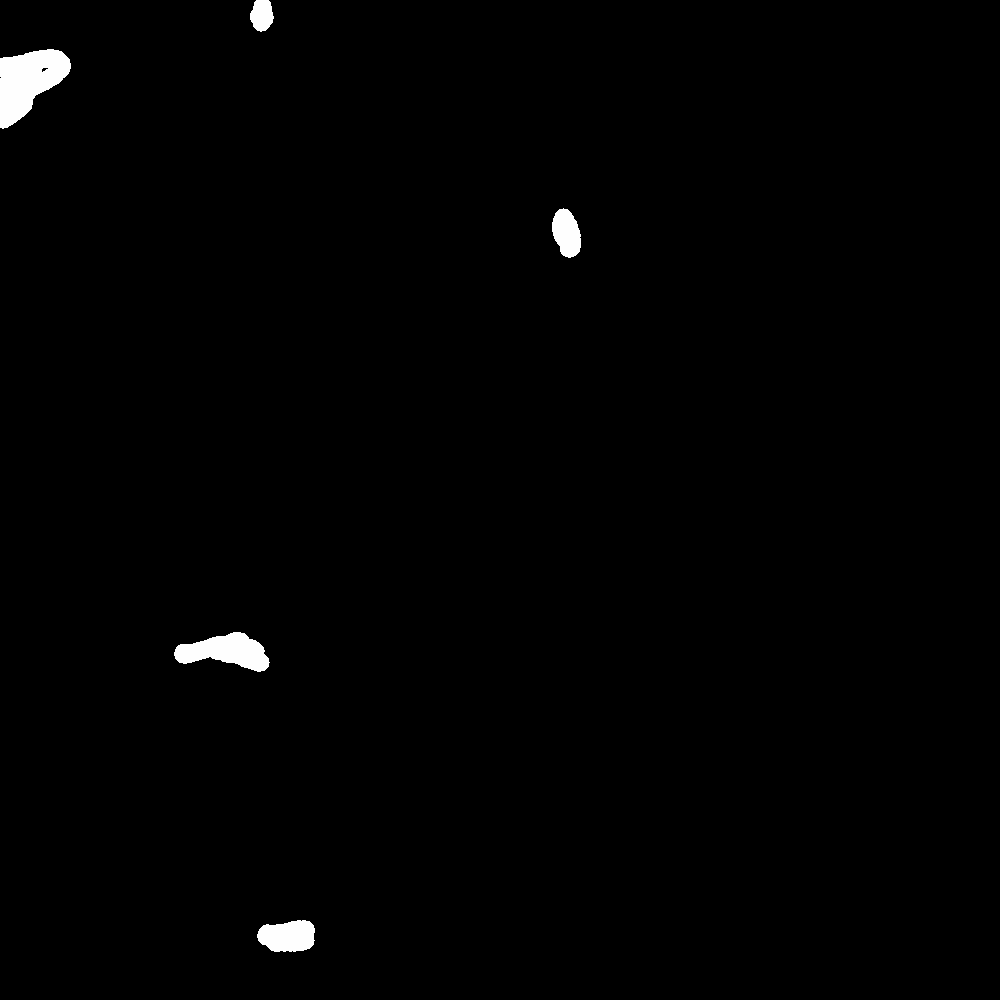illegal: (901, 173, 963, 249), (1, 61, 61, 128), (1, 400, 12, 455)
